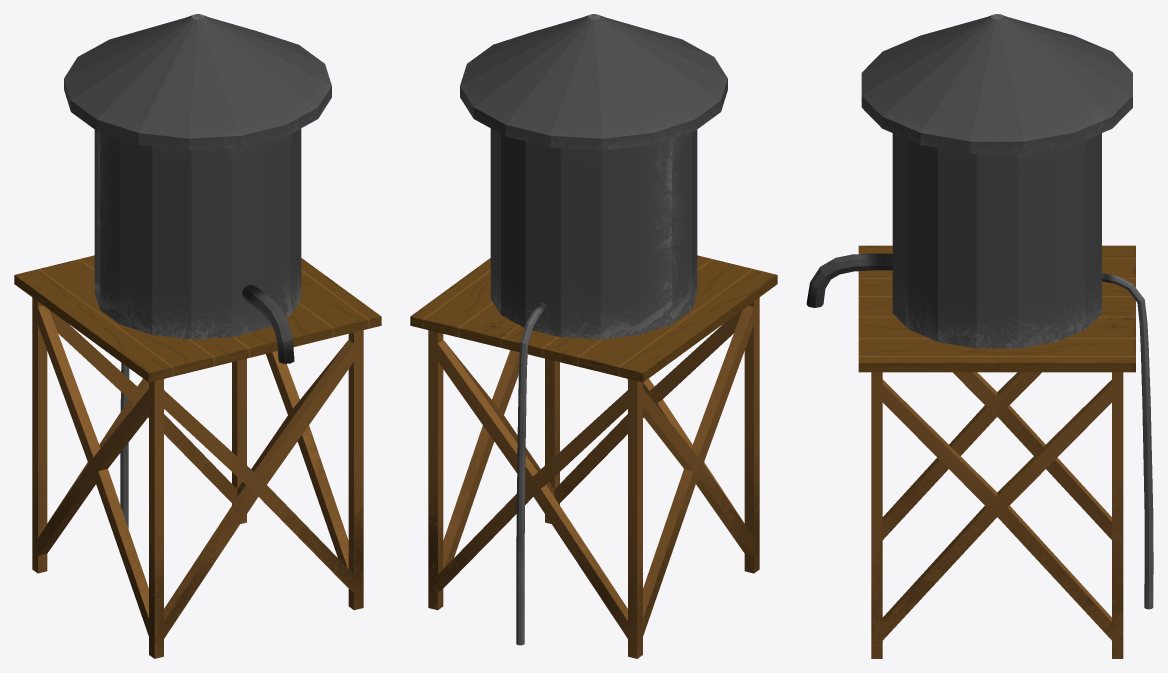
Rendered from WaterTank.fbx.
3 renders of one model, left to right at view 1: azimuth 30°, elevation 25°; view 2: azimuth 150°, elevation 25°; view 3: azimuth 270°, elevation 25°, orthographic. The views are drawn at different scales.
Parts seen in each view (by area): view 1: Cube.001_Cube.002; view 2: Cube.001_Cube.002; view 3: Cube.001_Cube.002.
Part boxes in pixels (x1,y1,x2,y2): Cube.001_Cube.002: (14,14,381,658); Cube.001_Cube.002: (410,14,777,658); Cube.001_Cube.002: (806,14,1153,658).
Size of the model in its own units: 190 by 238 by 447.
